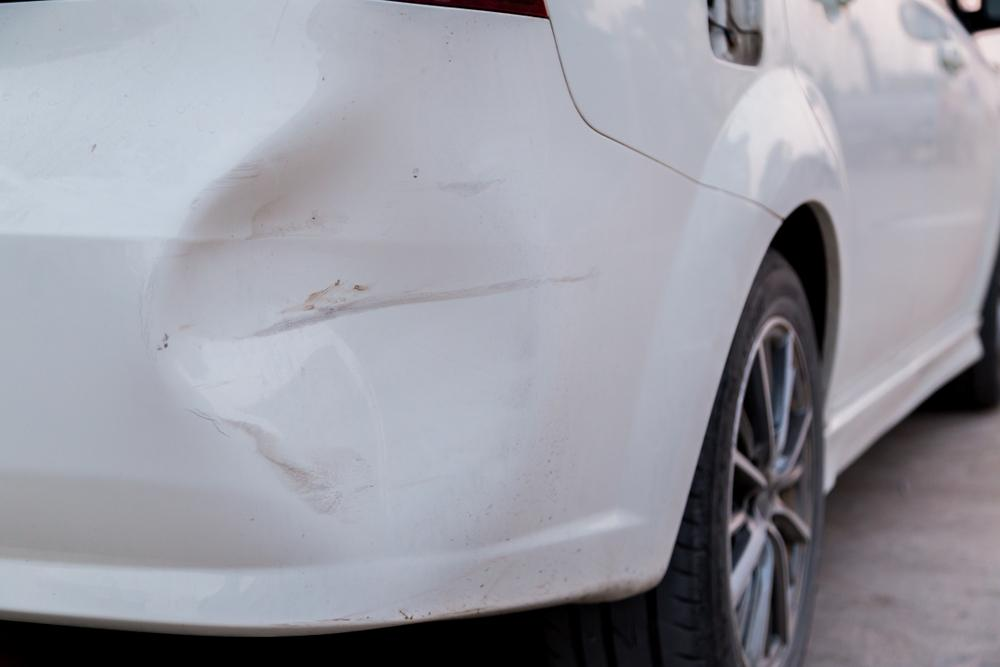dent: (152, 97, 549, 511)
